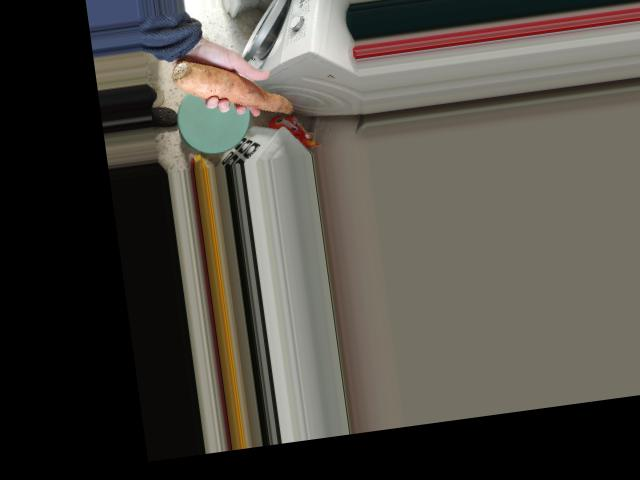sweet_potato: (168, 43, 303, 134)
